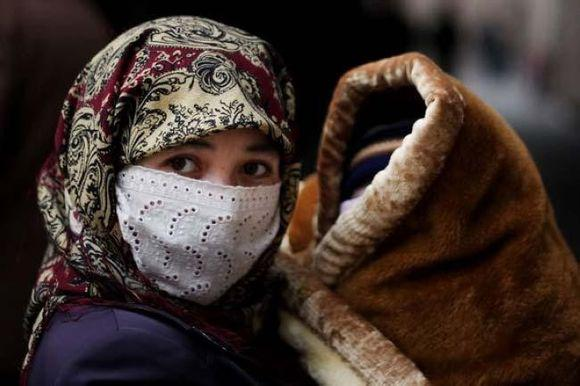WRONG: (121, 132, 279, 293)
